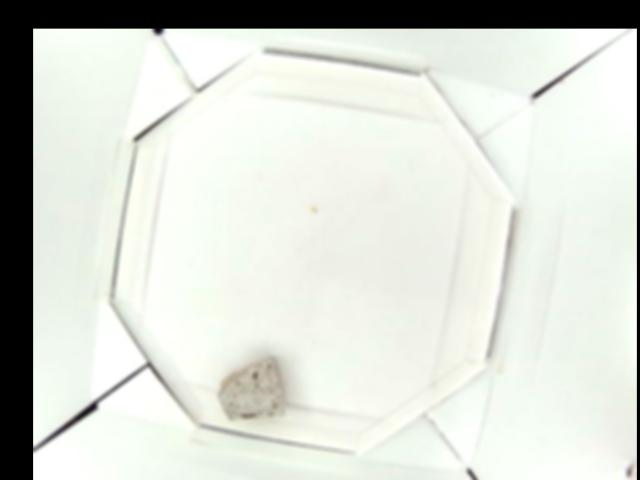China: (216, 358, 285, 421)
